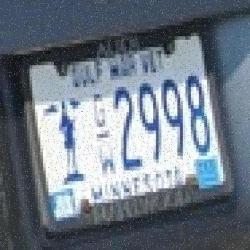LicensePlate: (14, 11, 238, 230)
